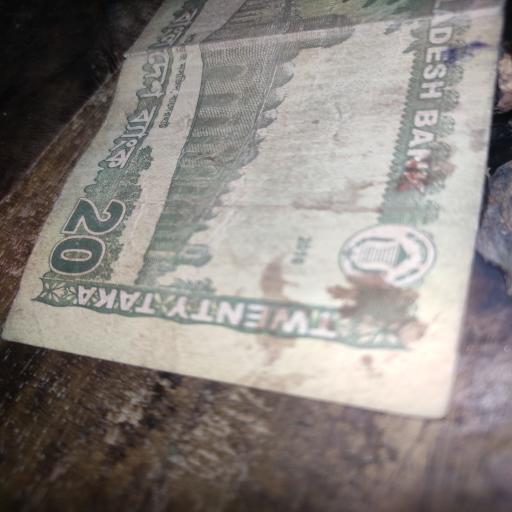20taka: (3, 1, 499, 422)
